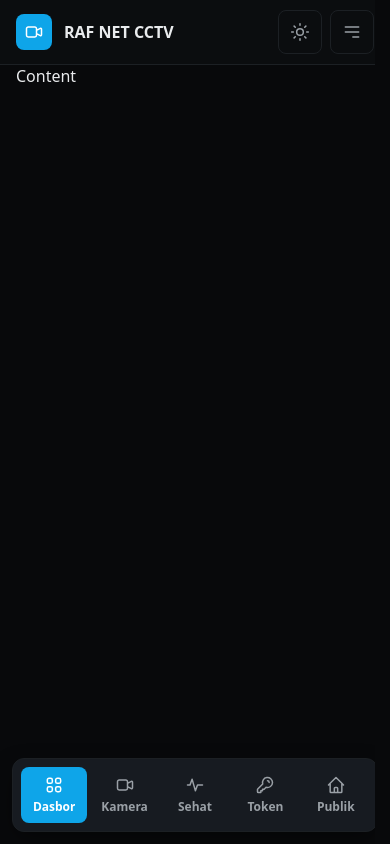
Test: AdminLayout shell › menyembunyikan quick action mobile saat menu admin terbuka agar logout tetap bisa diklik
Expected: the navigation bar with test id "admin-pwa-quick-actions" is shown, [12,758,378,832]
Click the button named "buka menu admin" at (352, 32), box [330,10,374,54]
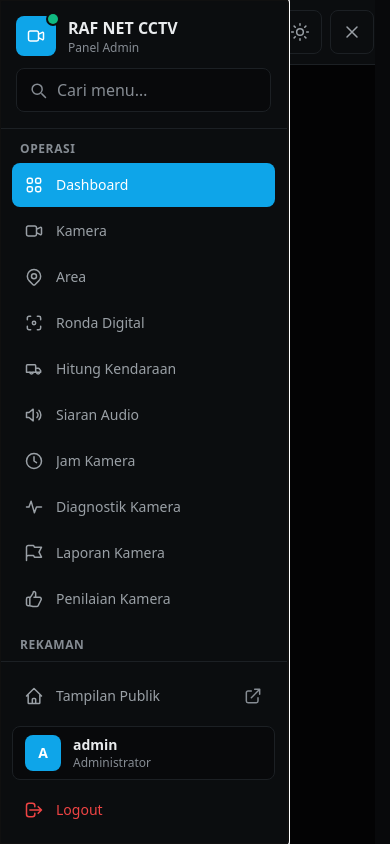
Expected: the button "Logout" is shown, [12,788,275,832]
Expected: the navigation bar with test id "admin-pwa-quick-actions" is gone
